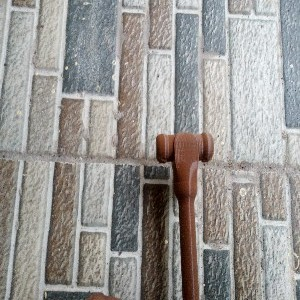palu: (155, 130, 215, 300)
